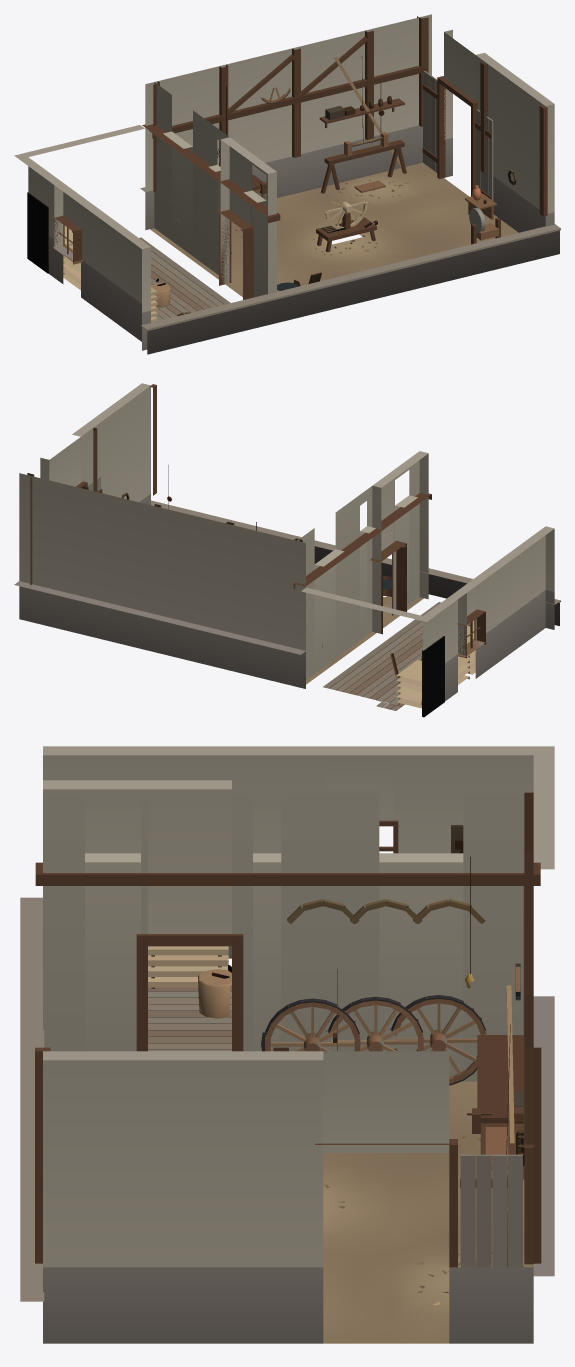
Rendered from int_taller.glb.
3 views of the same model, one above another, from view 1: azimuth 30°, elevation 25°; view 2: azimuth 150°, elevation 25°; view 3: azimuth 270°, elevation 25° (orthographic). The views are drawn at different scales.
Visible parts, largest first — view 1: fijo, piezas, hoja_trastienda; view 2: fijo, hoja_trastienda; view 3: fijo, piezas.
Boxes of the visible parts, <box> form: fijo: <box>14,14,560,354</box>; piezas: <box>156,56,516,315</box>; hoja_trastienda: <box>27,192,48,273</box>; fijo: <box>14,383,560,717</box>; hoja_trastienda: <box>421,636,444,717</box>; fijo: <box>20,746,554,1343</box>; piezas: <box>211,856,524,1305</box>.
Bounding box in the file's own units: 13.64 × 4.62 × 7.62.
